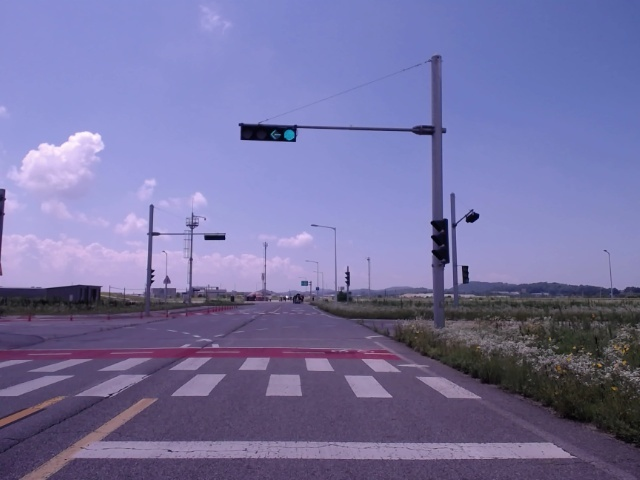all_green_4: (237, 124, 299, 144)
